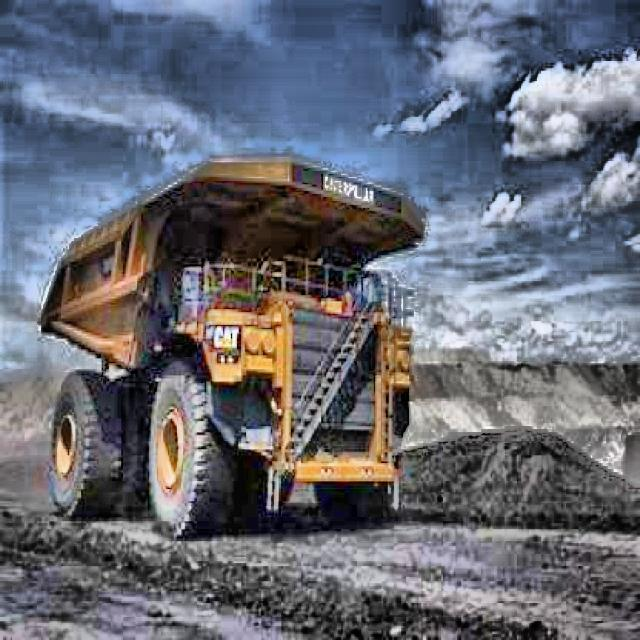dump_truck: (31, 151, 420, 529)
